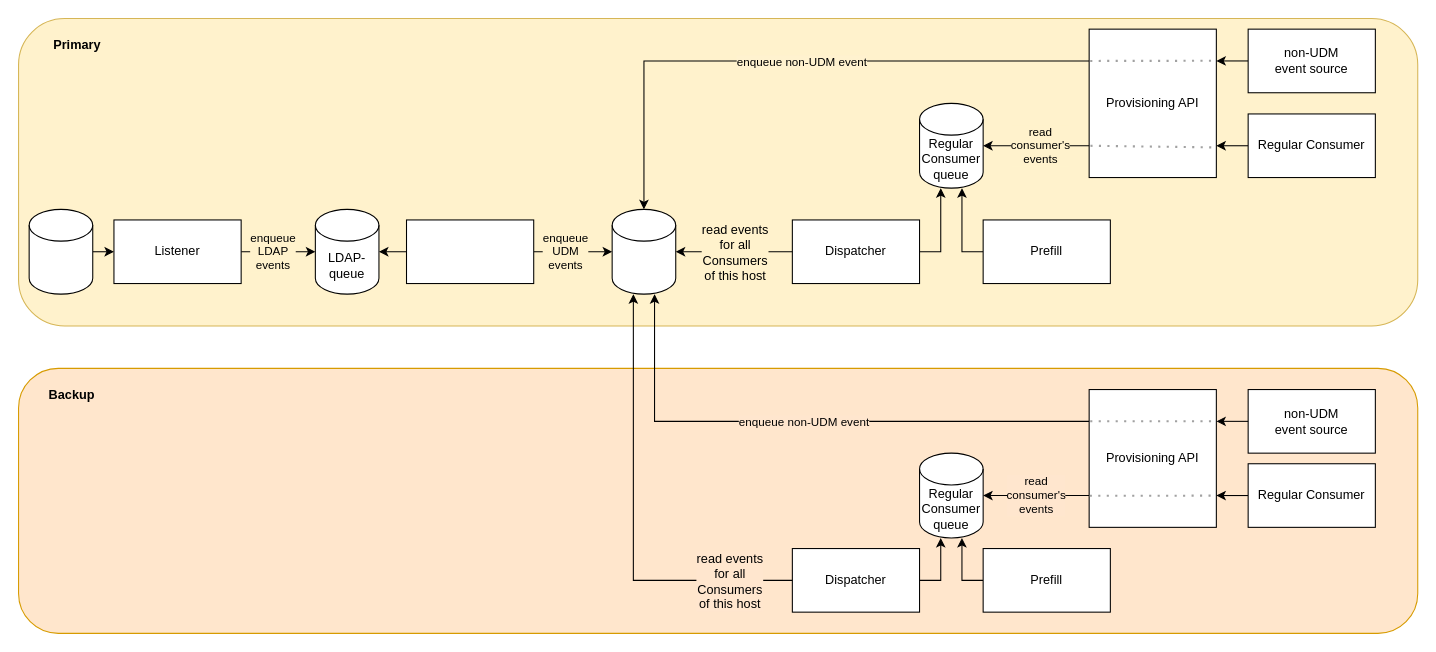
Some shapes in this 1436 by 652 pixel diagram are drawn without their labels. Here are the shapes that lost their labels. From the top down, the centre of each, then its label:
At point 60,251: "LDAP".
At point 469,251: "Transformer".
At point 643,251: "In-queue".
